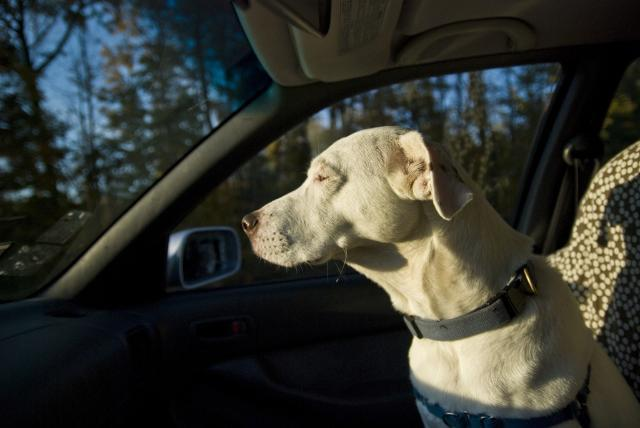Seatbelt: (544, 157, 602, 255)
